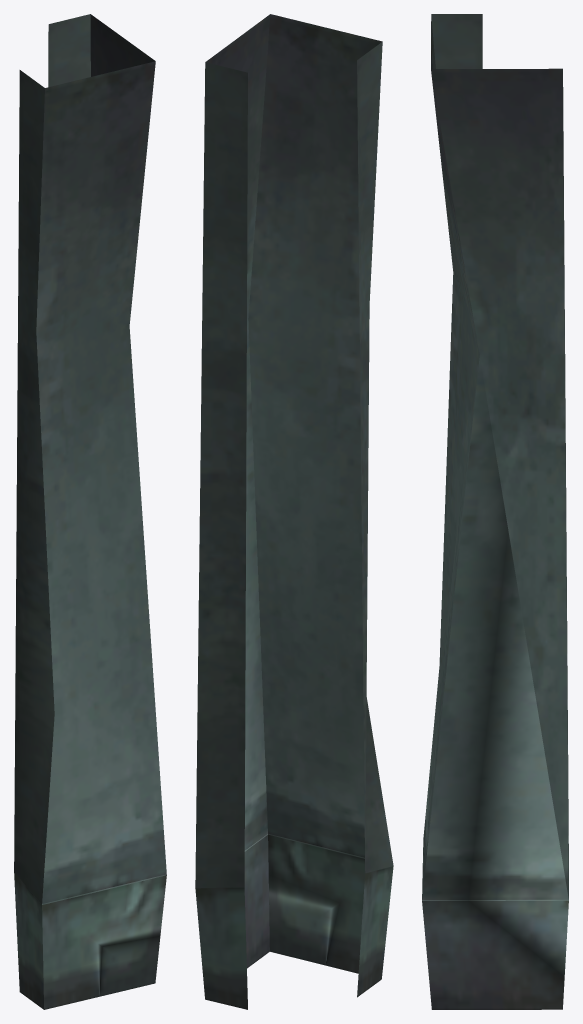
File: crypt_half_convex_01.fbx
The picture shows the model from 3 angles, left to right: view 1: azimuth 30°, elevation 25°; view 2: azimuth 150°, elevation 25°; view 3: azimuth 270°, elevation 25°; orthographic projection.
Visible parts, largest first — view 1: crypt_half_convex_01-0; view 2: crypt_half_convex_01-0; view 3: crypt_half_convex_01-0.
Boxes of the visible parts, box(x1,y1,x2,y2) form: crypt_half_convex_01-0: box(14, 14, 166, 1009); crypt_half_convex_01-0: box(195, 14, 393, 1009); crypt_half_convex_01-0: box(422, 14, 568, 1009).
Bounding box in the file's own units: 0.3874 × 2.75 × 0.3893.
